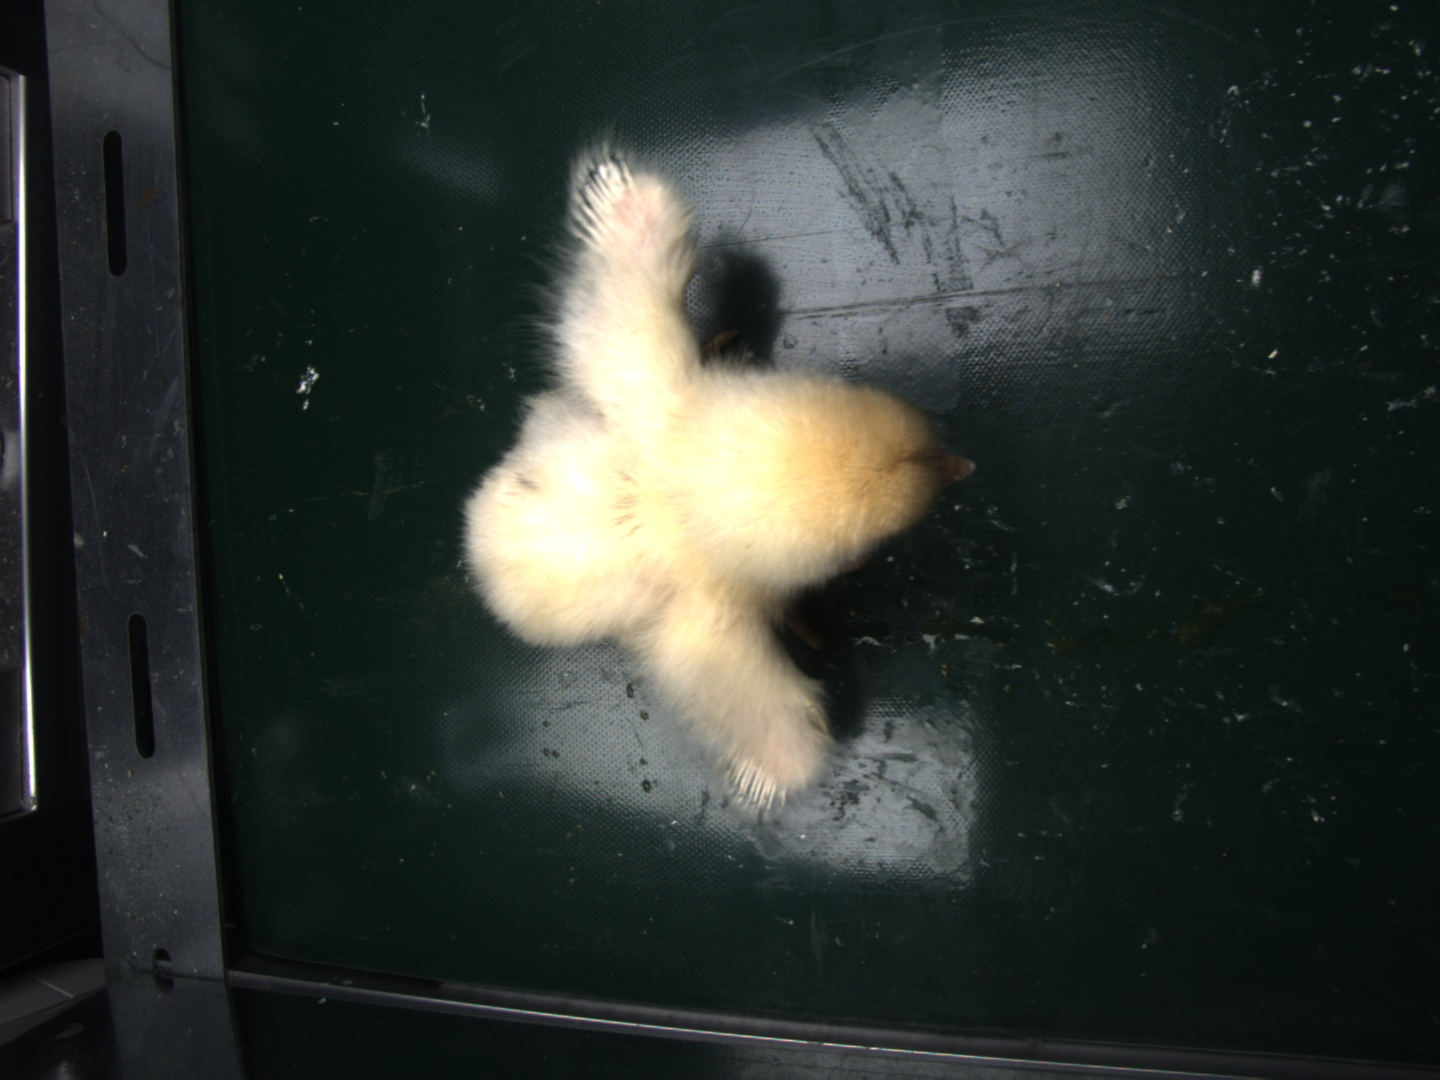male: (726, 754, 790, 816)
